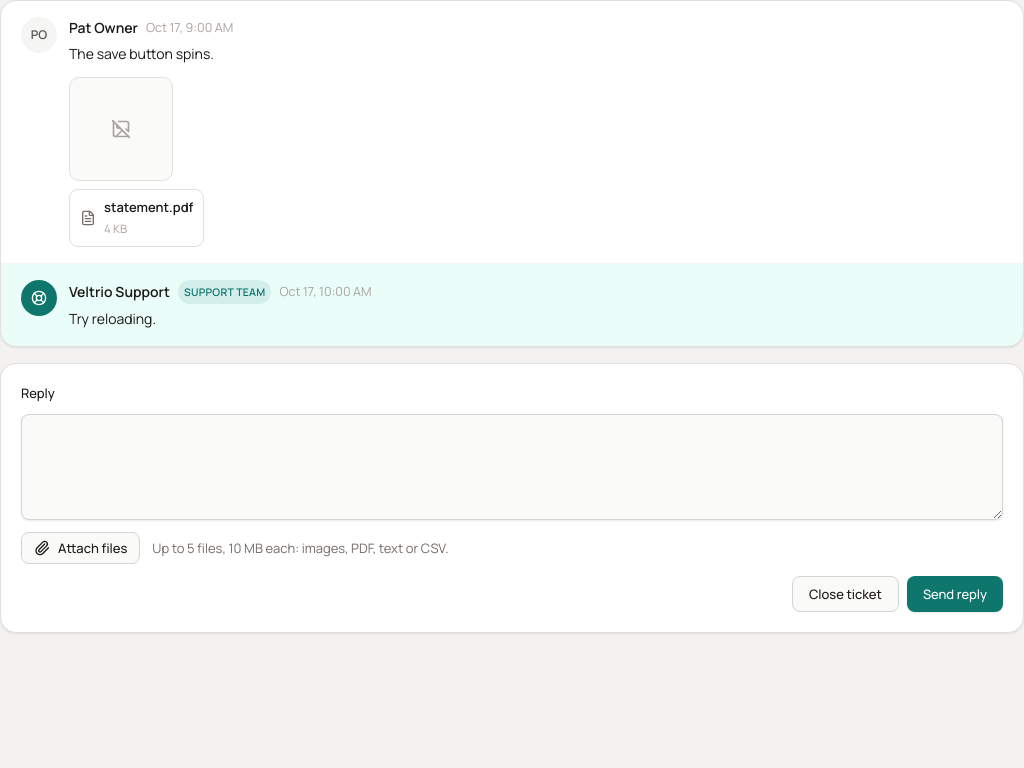
Test: ticket thread › keeps a reply that failed to send, so it can be sent again
Step 1. Type "Still stuck." into the text box labelled "Reply" → (512, 467), box left=21, top=414, right=1003, bottom=520
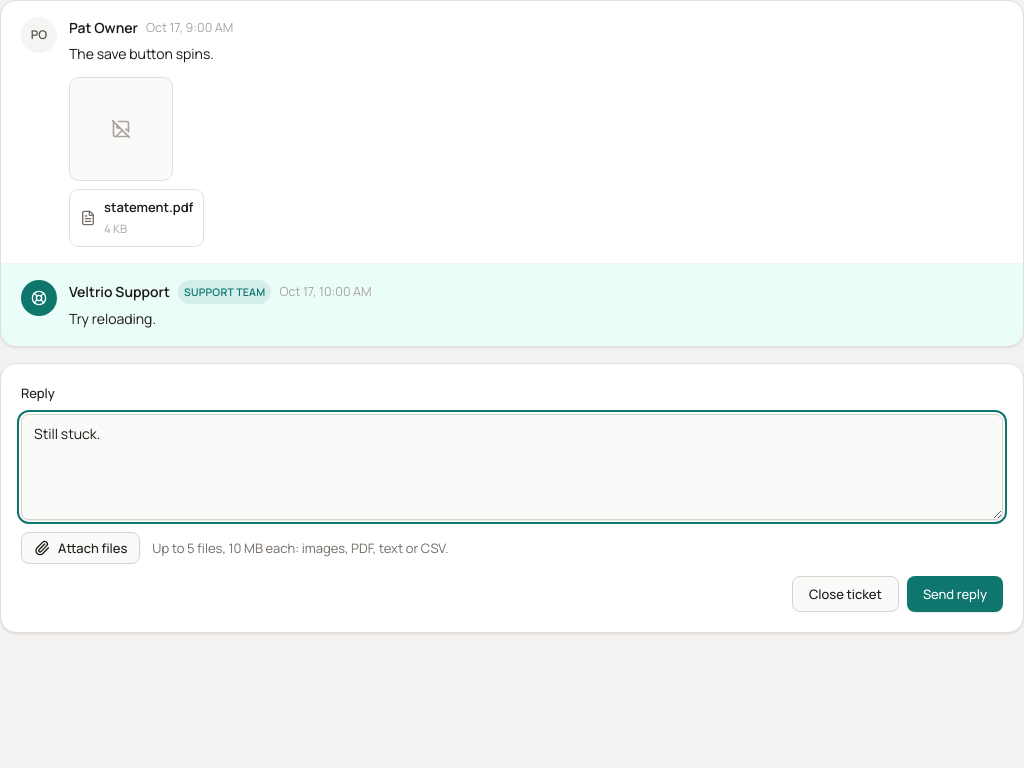
Step 2. Click the button "Send reply" → (955, 594), box left=907, top=576, right=1003, bottom=612
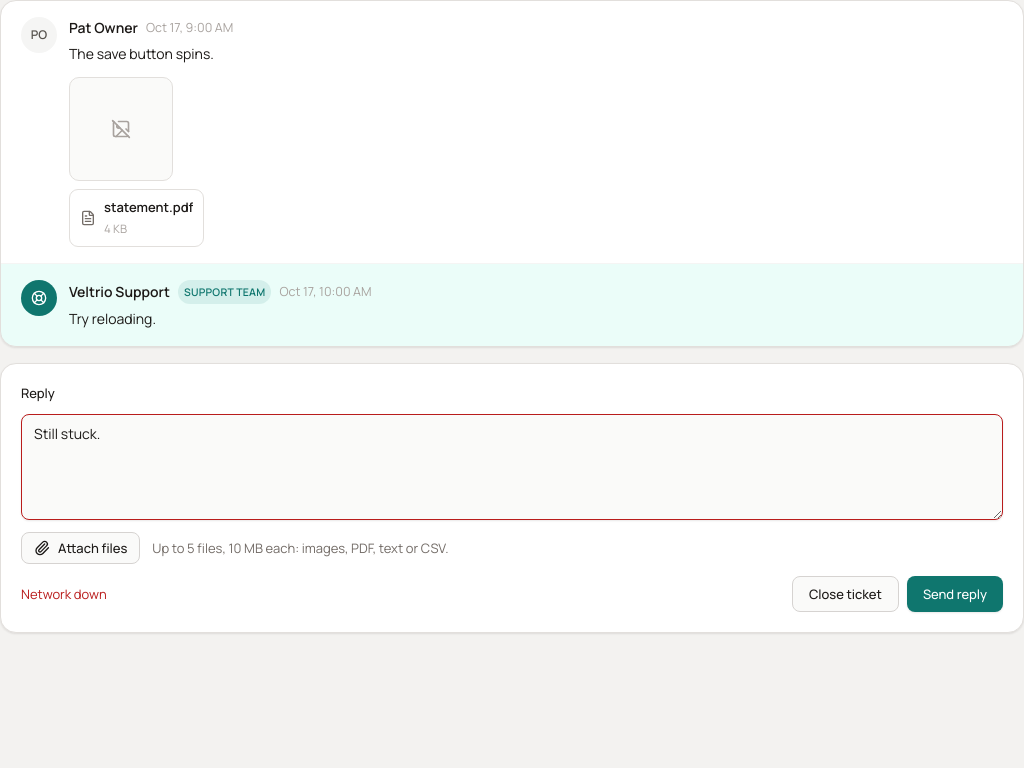
Check: the message reads "Network down", box left=21, top=585, right=107, bottom=603
